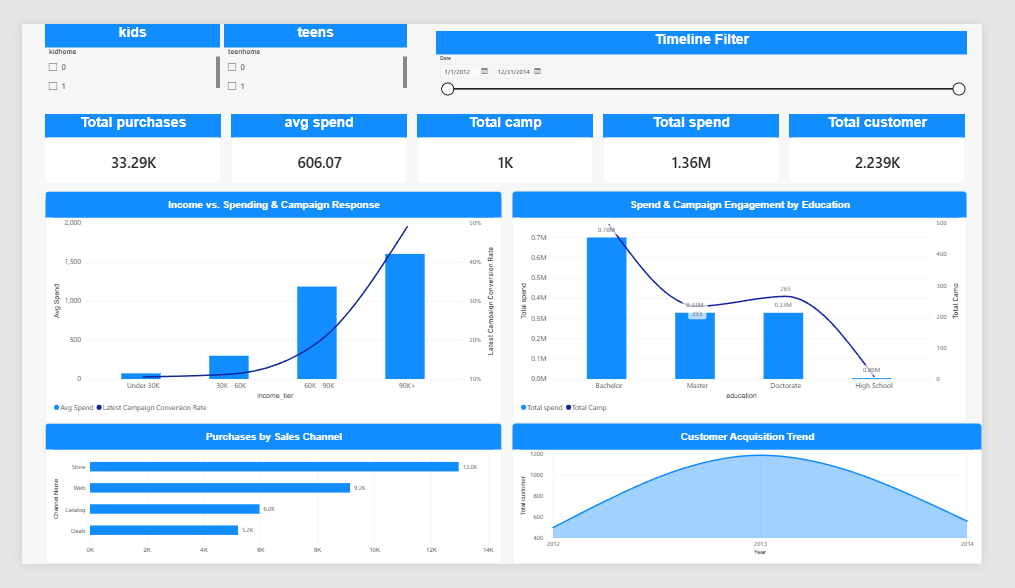

What the dashboard file says about the page in this screenshot:
{"tool":"powerbi","page":{"name":"Page 1","canvas":[1920,1080],"ordinal":0},"visuals":[{"type":"cardVisual","title":"Total customer","fields":{"Data":["Measure.Total customer"]},"box":[1533,180,352,140],"z":506},{"type":"cardVisual","title":"Total camp","fields":{"Data":["Measure.Total Camp"]},"box":[789,180,352,140],"z":1006},{"type":"cardVisual","title":"Total purchases","fields":{"Data":["Measure.Total Purchases"]},"box":[45,180,352,140],"z":1506},{"type":"cardVisual","title":"Total spend","fields":{"Data":["Measure.Total spend"]},"box":[1161,180,352,140],"z":2006},{"type":"cardVisual","title":"avg spend","fields":{"Data":["Measure.Avg Spend"]},"box":[417,180,352,140],"z":3506},{"type":"lineClusteredColumnComboChart","title":"Income vs. Spending & Campaign Response","fields":{"Category":["dim_customer.income_tier"],"Y":["Measure.Avg Spend"],"Y2":["Measure.Latest Campaign Conversion Rate"]},"box":[46,334,914,464],"z":3507},{"type":"lineClusteredColumnComboChart","title":"Spend & Campaign Engagement by Education","fields":{"Category":["dim_customer.education"],"Y":["Measure.Total spend"],"Y2":["Measure.Total Camp"]},"box":[980,334,910,464],"z":3508},{"type":"clusteredBarChart","title":"Purchases by Sales Channel","fields":{"Category":["Dim_Channels.Channel Name"],"Y":["Measure.Purchases_By_Channel"]},"box":[46,798,914,282],"z":3509},{"type":"areaChart","title":"Customer Acquisition Trend","fields":{"Category":["dim_customer.dt_customer.Variation.Date Hierarchy.Year"],"Y":["Measure.Total customer"]},"box":[980,798,940,282],"z":3510},{"type":"slicer","title":"Timeline Filter","fields":{"Values":["dim_date.Date"]},"box":[828,14,1062,136],"z":3511},{"type":"slicer","title":"teens","fields":{"Values":["dim_customer.teenhome"]},"box":[404,0,366,150],"z":3512},{"type":"slicer","title":"kids","fields":{"Values":["dim_customer.kidhome"]},"box":[46,0,350,150],"z":3513}]}

Visuals, with their boxes in screenshot pixels (x1, y1, x2, y2), scaled from the page's 1920x1080 canvas onto the 1015x588 screenshot:
"Total customer" cardVisual: locate(810, 98, 996, 174)
"Total camp" cardVisual: locate(417, 98, 603, 174)
"Total purchases" cardVisual: locate(24, 98, 210, 174)
"Total spend" cardVisual: locate(614, 98, 800, 174)
"avg spend" cardVisual: locate(220, 98, 407, 174)
"Income vs. Spending & Campaign Response" lineClusteredColumnComboChart: locate(24, 182, 508, 434)
"Spend & Campaign Engagement by Education" lineClusteredColumnComboChart: locate(518, 182, 999, 434)
"Purchases by Sales Channel" clusteredBarChart: locate(24, 434, 508, 587)
"Customer Acquisition Trend" areaChart: locate(518, 434, 1014, 587)
"Timeline Filter" slicer: locate(438, 8, 999, 82)
"teens" slicer: locate(214, 0, 407, 82)
"kids" slicer: locate(24, 0, 209, 82)
